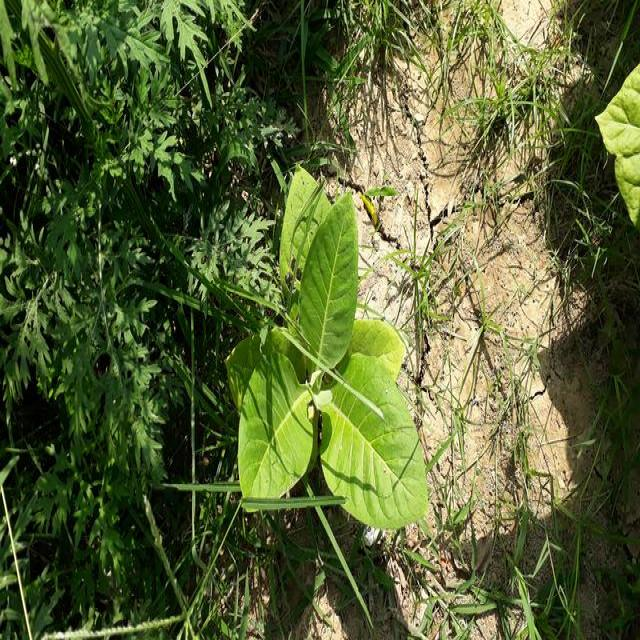crop: (232, 160, 424, 537), (605, 59, 640, 219)
